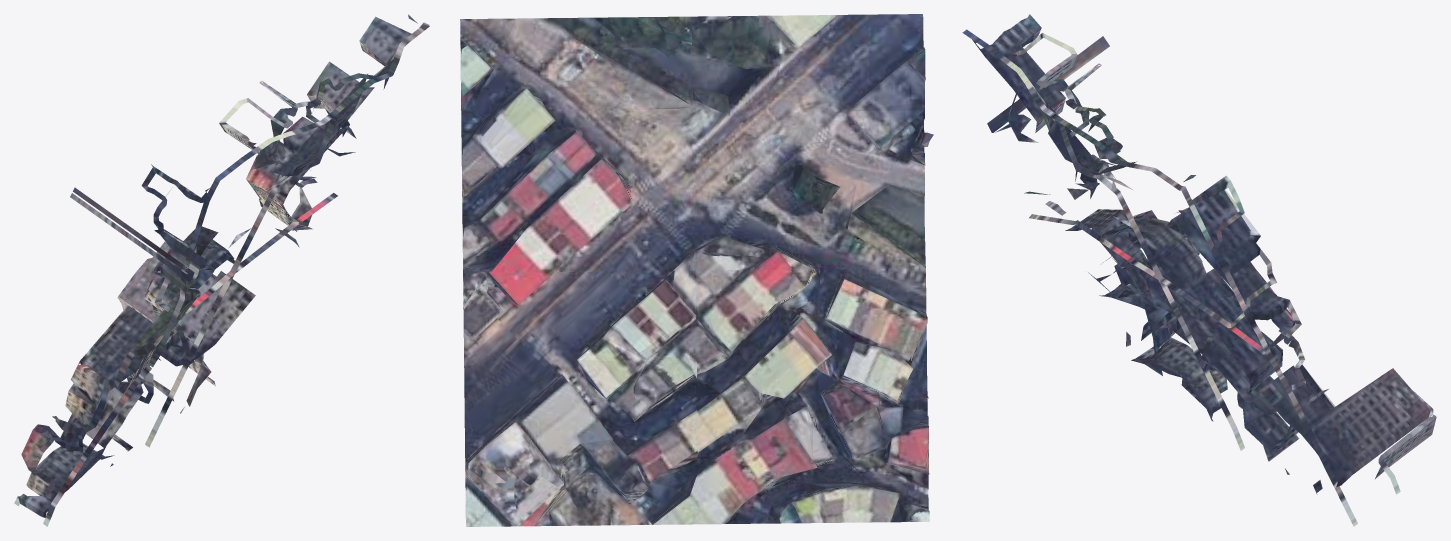
3 renders of one model, left to right at view 1: azimuth 30°, elevation 25°; view 2: azimuth 150°, elevation 25°; view 3: azimuth 270°, elevation 25°, orthographic. The views are drawn at different scales.
Bounding box in the file's own units: 159 × 146 × 154.
Materials: 1 (1 with a texture image).
